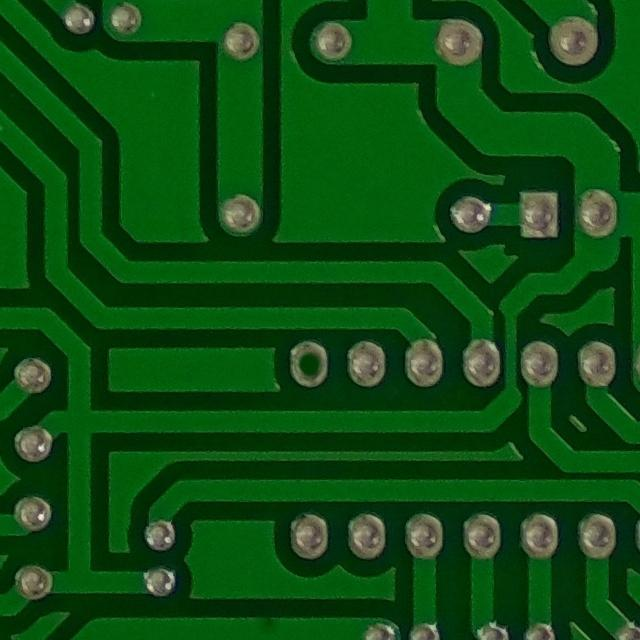missing_hole: (285, 335, 343, 398)
